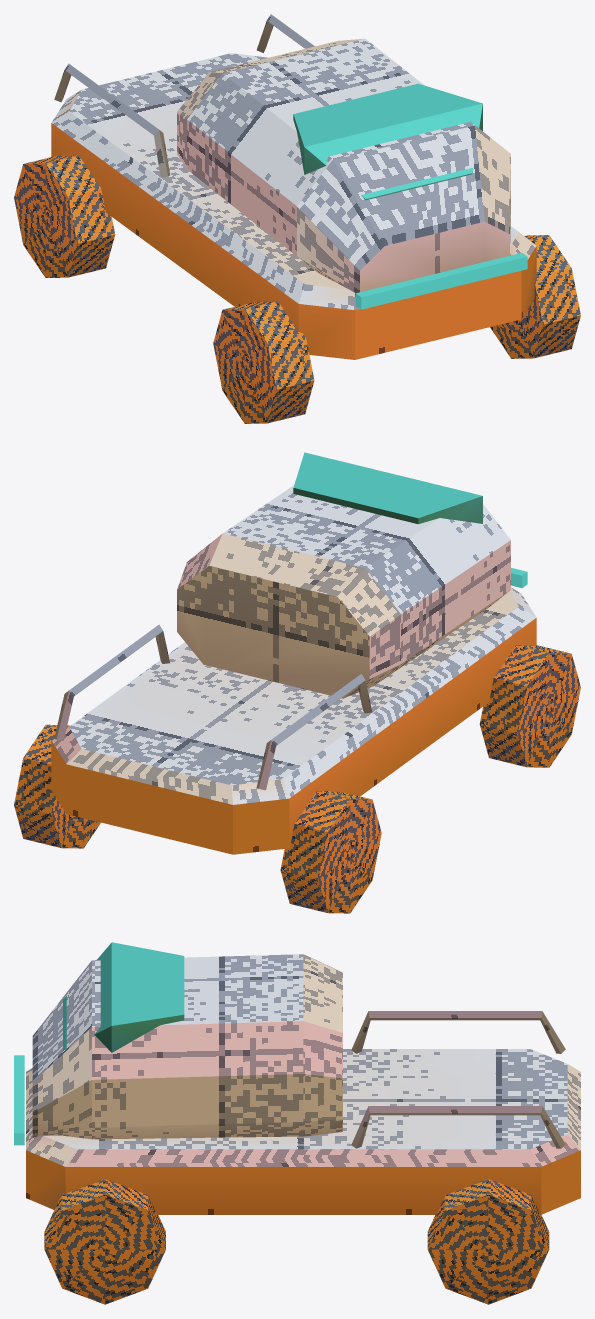
The model's file is ship.rover__scout.glb.
The picture shows the model from 3 angles, top to bottom: view 1: azimuth 30°, elevation 25°; view 2: azimuth 150°, elevation 25°; view 3: azimuth 270°, elevation 25°; orthographic projection. The views are drawn at different scales.
Visible parts, largest first — view 1: kit_cab, kit_chassis, kit_wheels, kit_glass, kit_lightbar, kit_deck_rail; view 2: kit_chassis, kit_cab, kit_wheels, kit_glass, kit_deck_rail; view 3: kit_chassis, kit_cab, kit_wheels, kit_glass, kit_deck_rail, kit_lightbar.
Boxes of the visible parts, box(x1,y1,x2,y2) form: kit_cab: box(177, 38, 510, 293); kit_chassis: box(51, 53, 536, 359); kit_wheels: box(14, 155, 580, 423); kit_glass: box(293, 83, 482, 200); kit_lightbar: box(355, 253, 527, 309); kit_deck_rail: box(54, 14, 314, 177); kit_chassis: box(51, 587, 536, 854); kit_cab: box(177, 461, 510, 698); kit_wheels: box(14, 645, 580, 913); kit_glass: box(293, 452, 482, 524); kit_deck_rail: box(54, 624, 372, 790); kit_chassis: box(26, 1049, 580, 1214); kit_cab: box(32, 954, 342, 1139); kit_wheels: box(44, 1179, 549, 1304); kit_glass: box(63, 942, 184, 1052); kit_deck_rail: box(351, 1011, 565, 1148); kit_lightbar: box(14, 1055, 24, 1145).
Bounding box in the file's own units: 2.56 × 2.08 × 4.29.
Materials: 6 (5 with a texture image).
